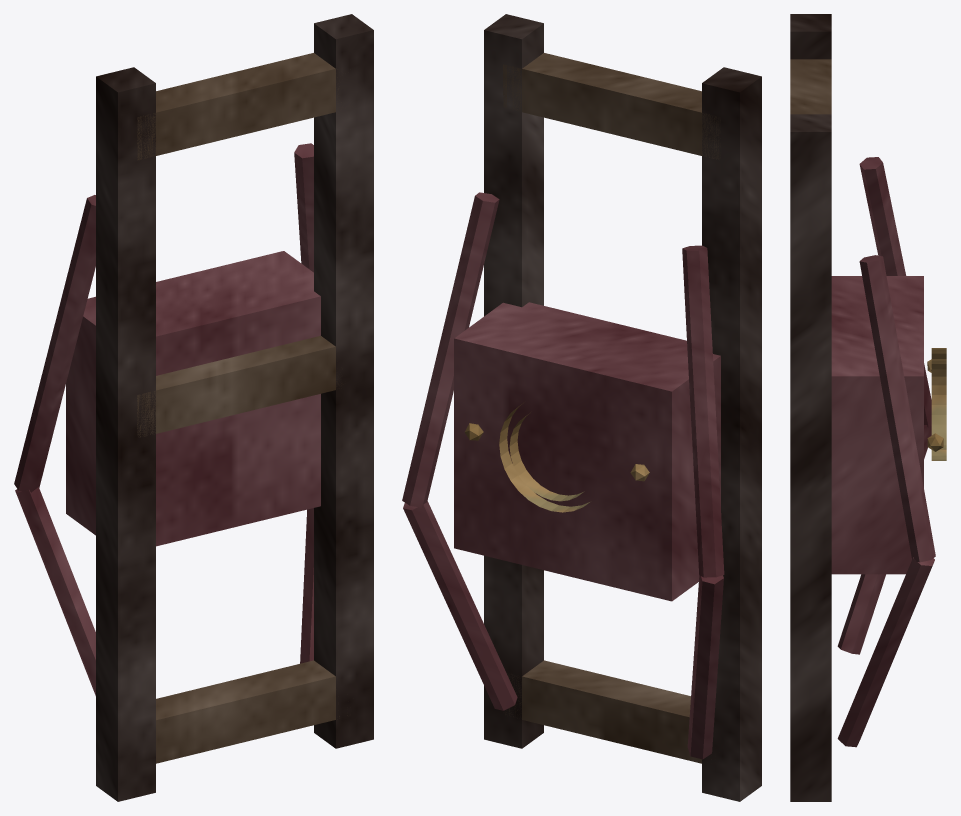
Rendered from 0830_carrier_frame_05.glb.
3 renders of one model, left to right at view 1: azimuth 30°, elevation 25°; view 2: azimuth 150°, elevation 25°; view 3: azimuth 270°, elevation 25°, orthographic. The views are drawn at different scales.
Parts seen in each view (by area): view 1: wood_dark, cloth, wood; view 2: cloth, wood_dark, wood, brass; view 3: cloth, wood_dark, wood, brass.
Boxes of the visible parts, x1,y1,x2,y2 form: wood_dark: (96,14,373,801); cloth: (14,143,320,695); wood: (137,53,347,763); cloth: (402,192,724,759); wood_dark: (484,14,761,801); wood: (503,53,720,763); brass: (464,403,649,512); cloth: (831,157,935,747); wood_dark: (790,14,831,801); wood: (790,59,831,114); brass: (927,348,946,460).
Size of the model in its own units: 0.921 by 1.96 by 0.415.
Materials: 4 (4 with a texture image).
